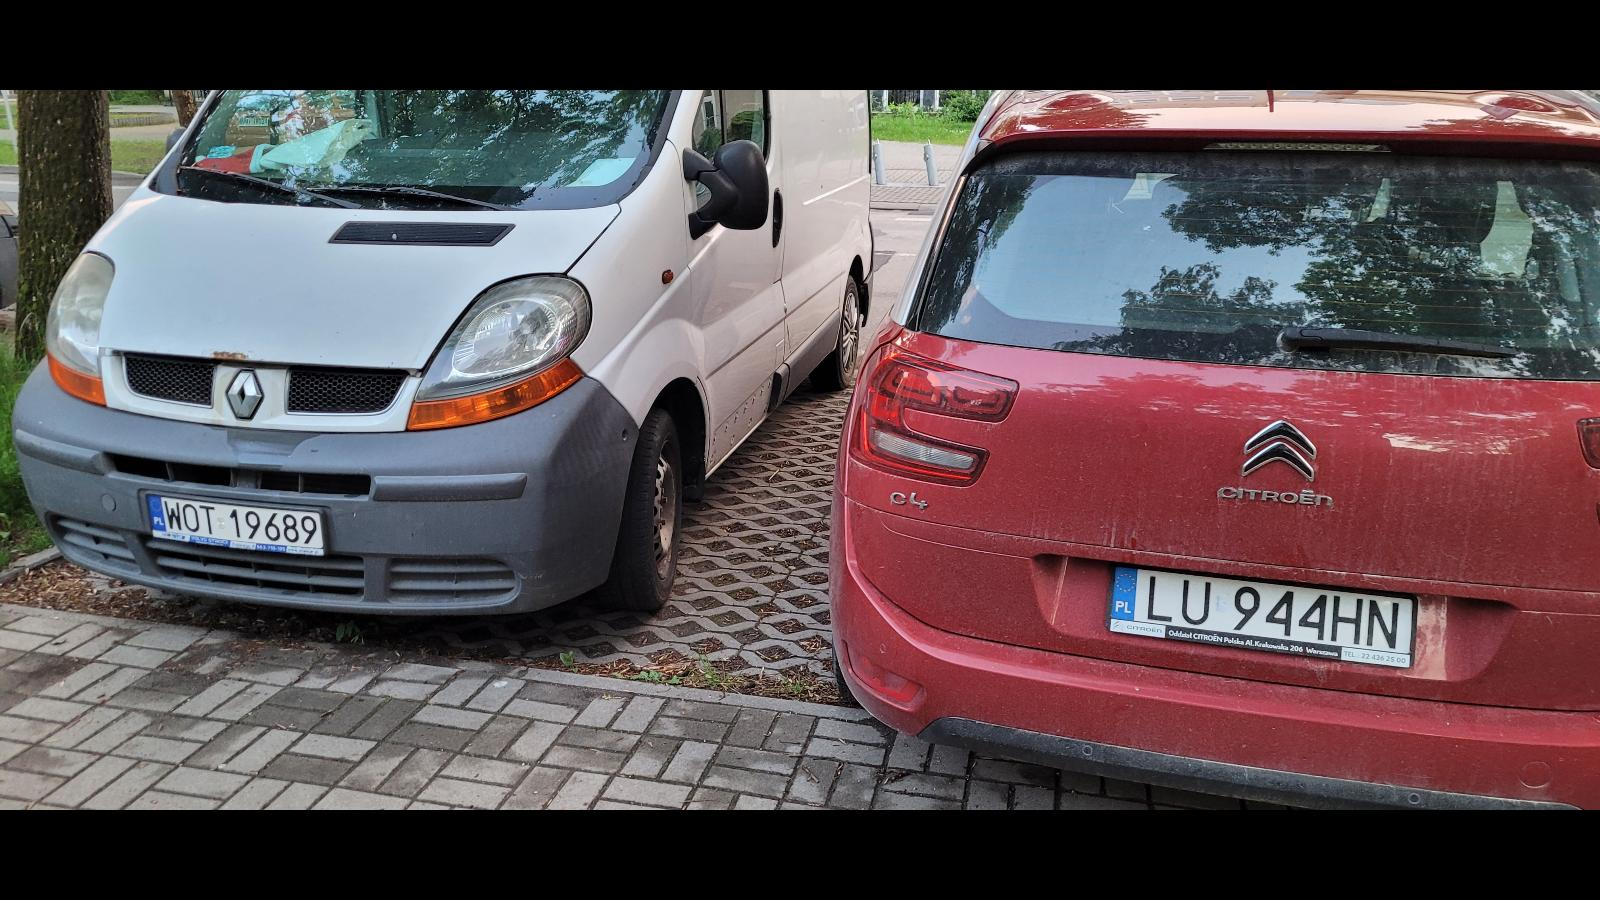plates: (1106, 564, 1418, 668), (145, 491, 325, 556)
